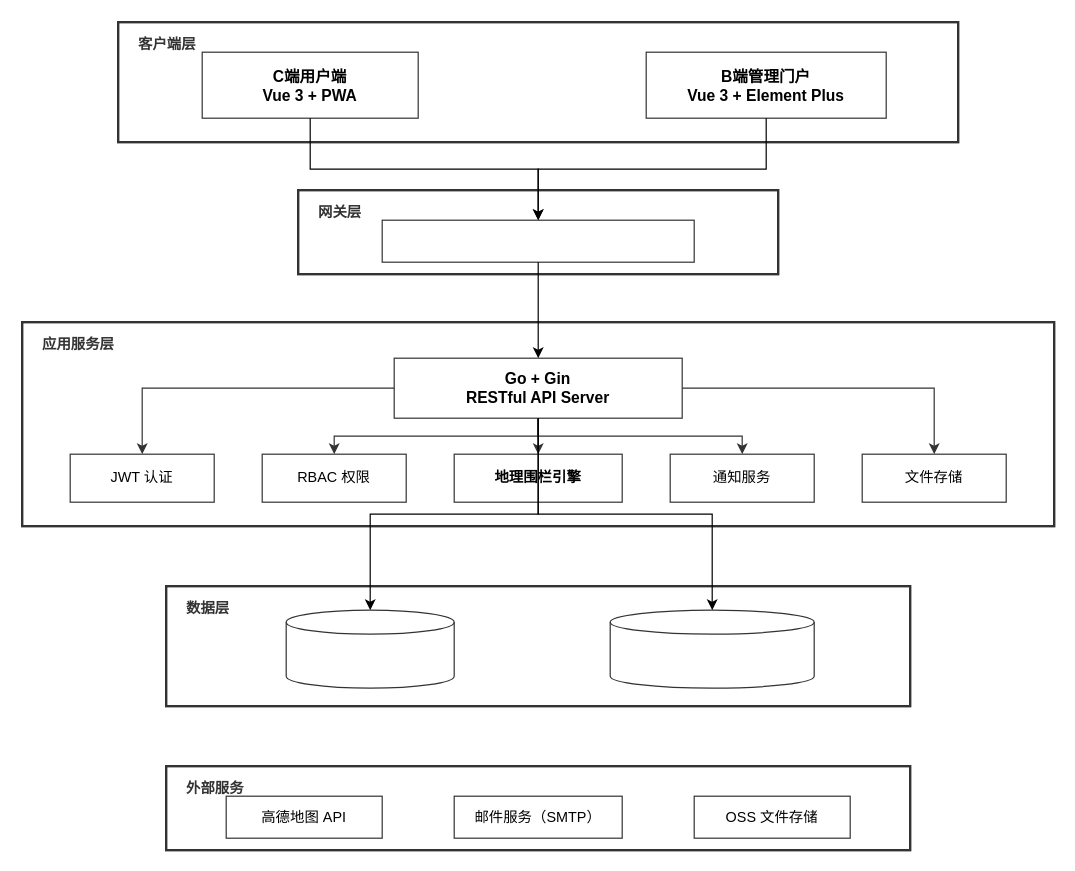
Image size: 1075x871. Some labels were removed from this diagram. The shapes that lost their labels are listed below. From the top down, each one's centre as x and y in pixels, then its label:
(x=537, y=240): Nginx 反向代理 / 静态资源
(x=369, y=648): MySQL 8.0 业务数据
(x=711, y=648): Redis 7.0 缓存 / Token 黑名单
